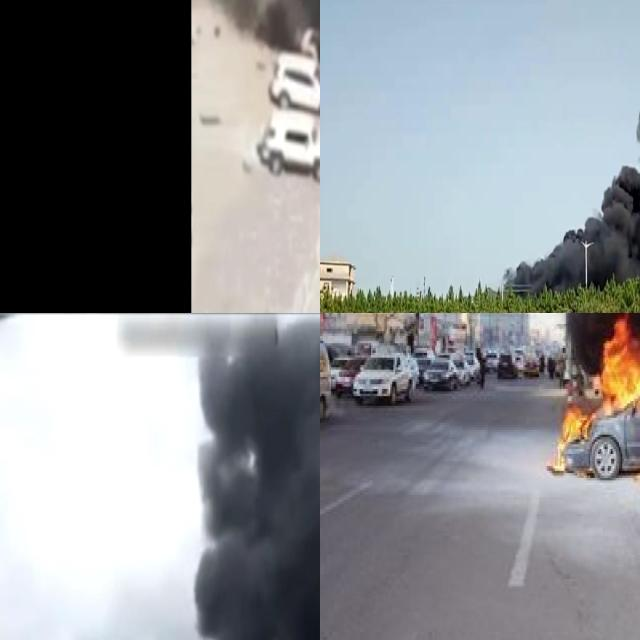fire: (553, 313, 640, 468)
smoke: (178, 313, 320, 640), (512, 0, 640, 289)
